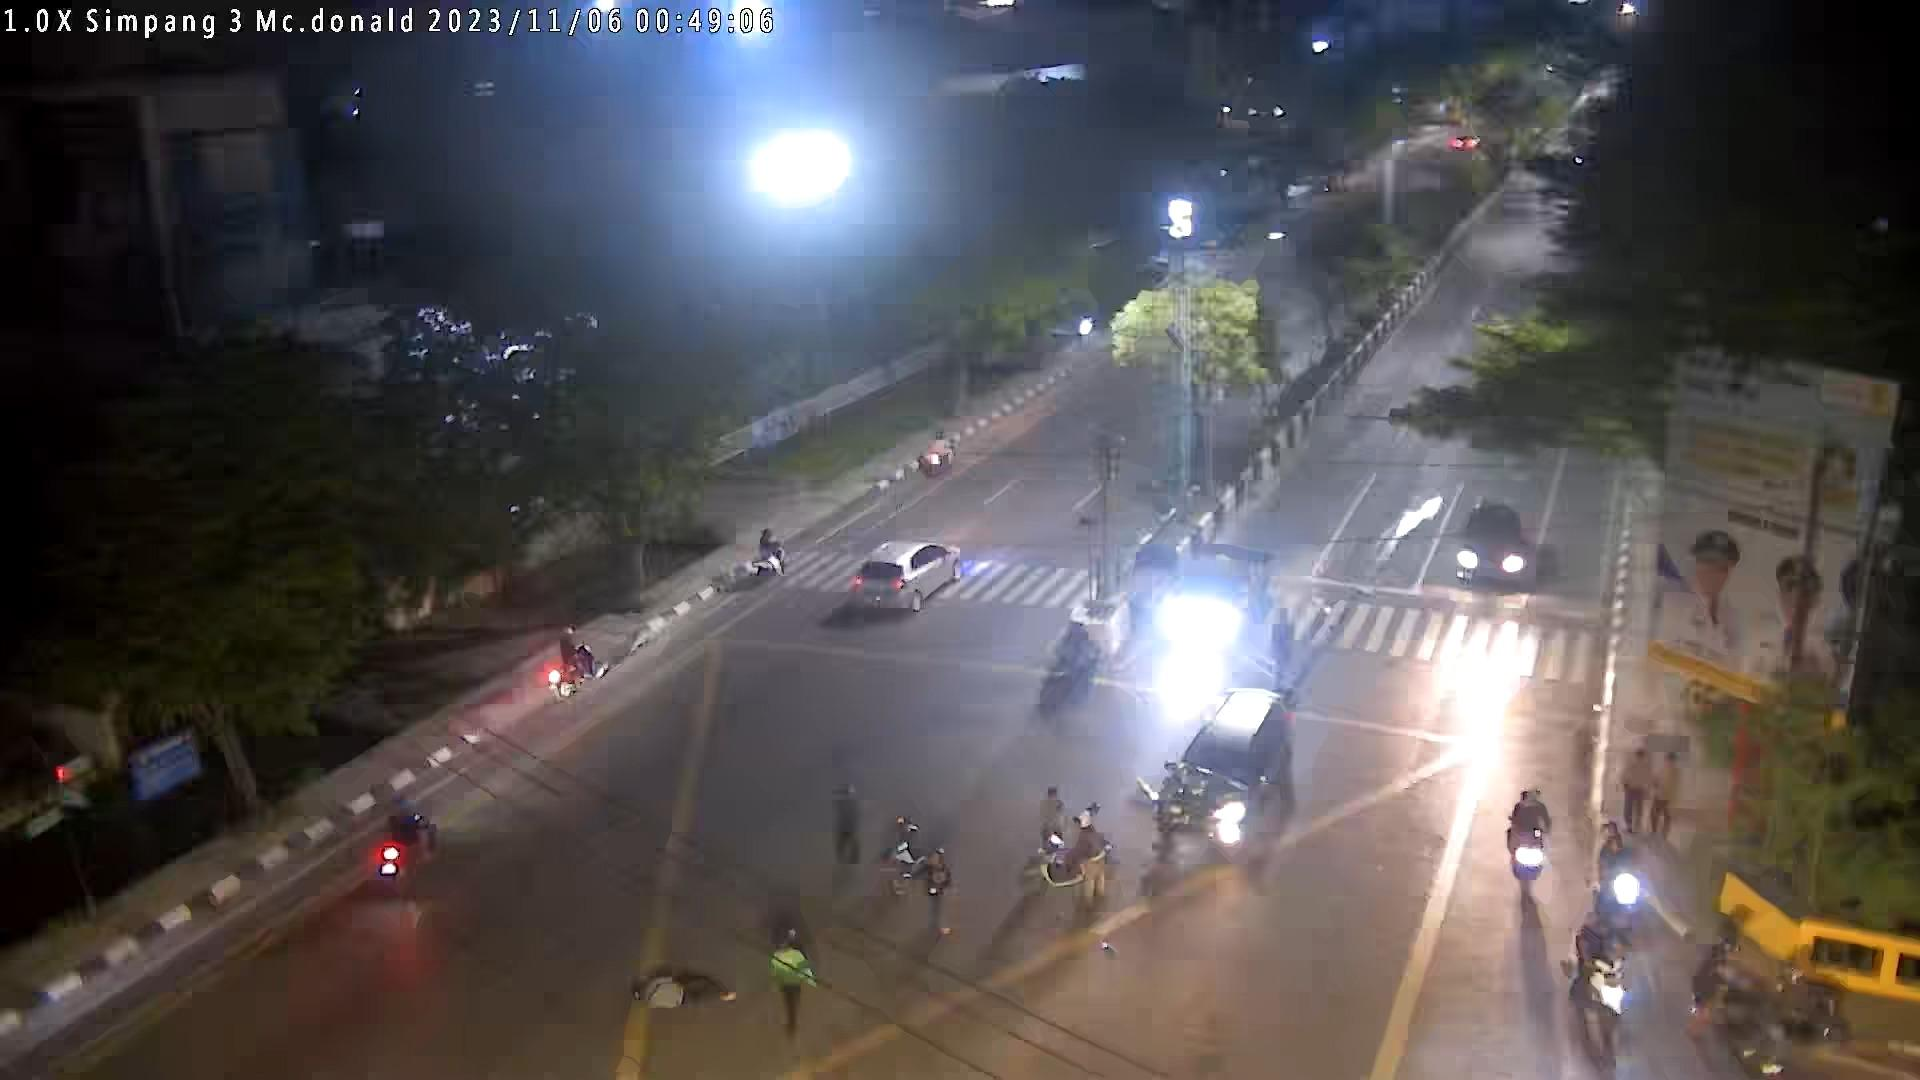accident: (630, 968, 738, 1010)
